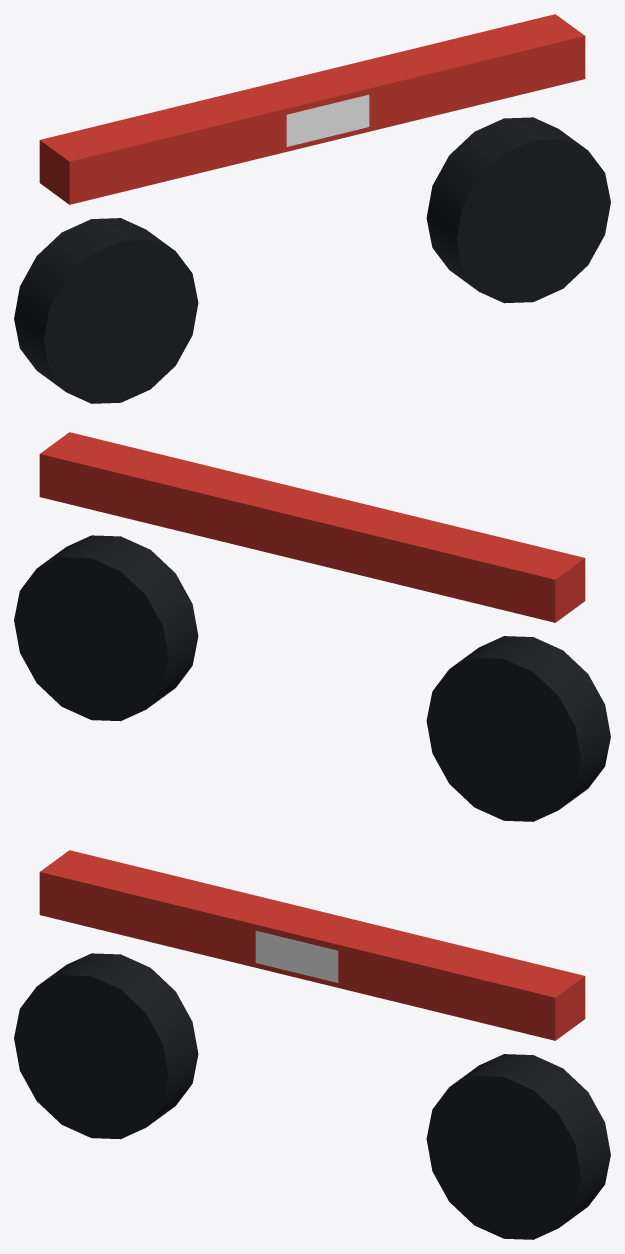
The model's file is toolkit--glassVacuumLifter.glb.
3 renders of one model, top to bottom at view 1: azimuth 30°, elevation 25°; view 2: azimuth 150°, elevation 25°; view 3: azimuth 330°, elevation 25°, orthographic.
Parts seen in each view (by area): view 1: glassVacuumLifter:shell, gauge; view 2: glassVacuumLifter:shell; view 3: glassVacuumLifter:shell, gauge.
Boxes of the visible parts, x1,y1,x2,y2 form: glassVacuumLifter:shell: [14, 14, 610, 403]; gauge: [286, 94, 369, 146]; glassVacuumLifter:shell: [14, 432, 610, 821]; glassVacuumLifter:shell: [14, 850, 610, 1239]; gauge: [255, 930, 338, 982].
Bounding box in the file's own units: 0.55 × 0.235 × 0.051.
